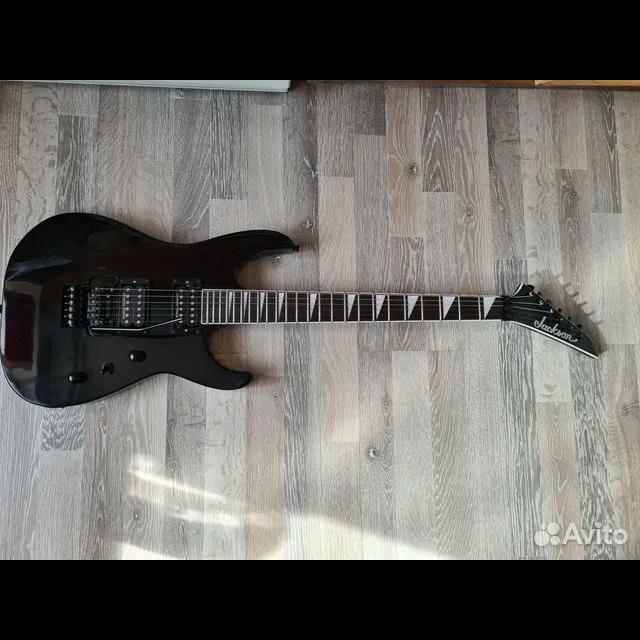Electric-Guitar: (0, 210, 600, 405)
